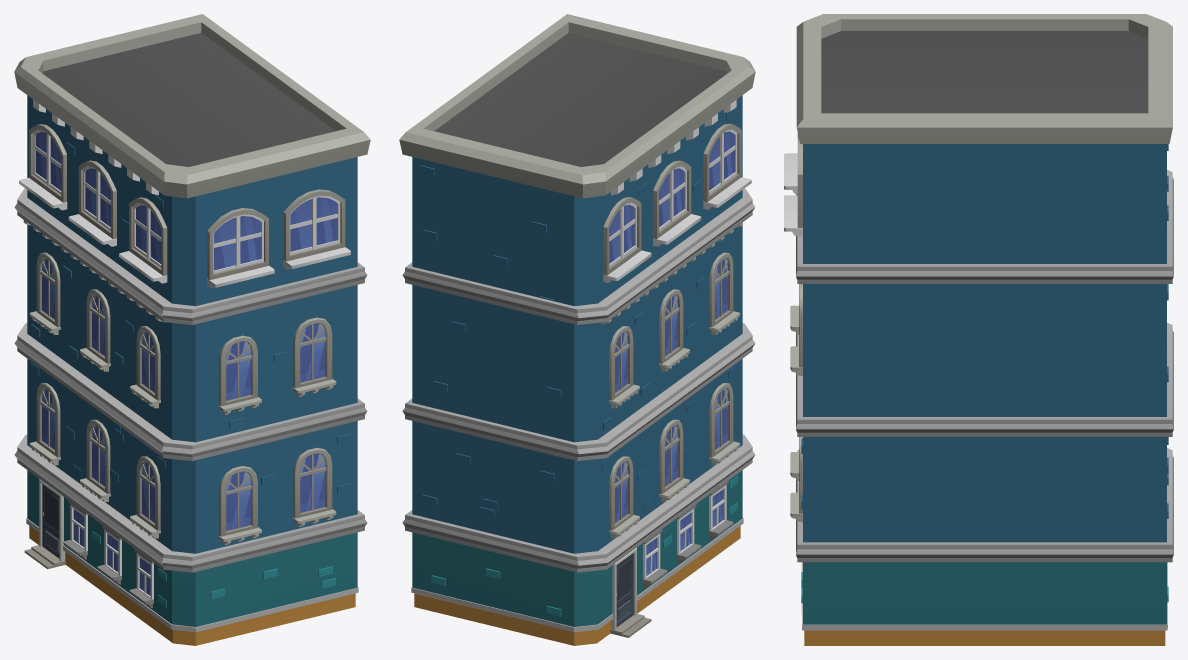
The model's file is Building_18_2_B.glb.
The picture shows the model from 3 angles, left to right: view 1: azimuth 30°, elevation 25°; view 2: azimuth 150°, elevation 25°; view 3: azimuth 270°, elevation 25°; orthographic projection. The views are drawn at different scales.
Visible parts, largest first — view 1: Building_18_2_B; view 2: Building_18_2_B; view 3: Building_18_2_B.
Part boxes in pixels (x1,y1,x2,y2): Building_18_2_B: (14,14,370,645); Building_18_2_B: (399,14,755,645); Building_18_2_B: (784,14,1173,645).
Bounding box in the file's own units: 7.19 × 15.94 × 10.59.
Materials: 3 (3 with a texture image).
